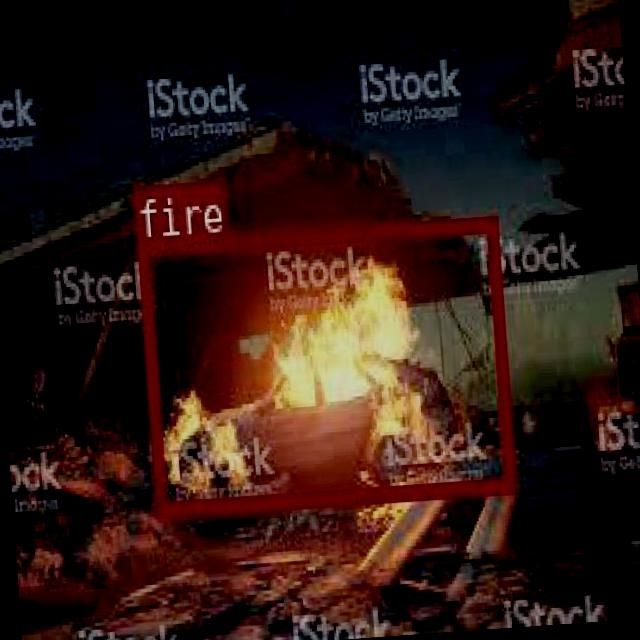fire: (135, 216, 512, 514)
